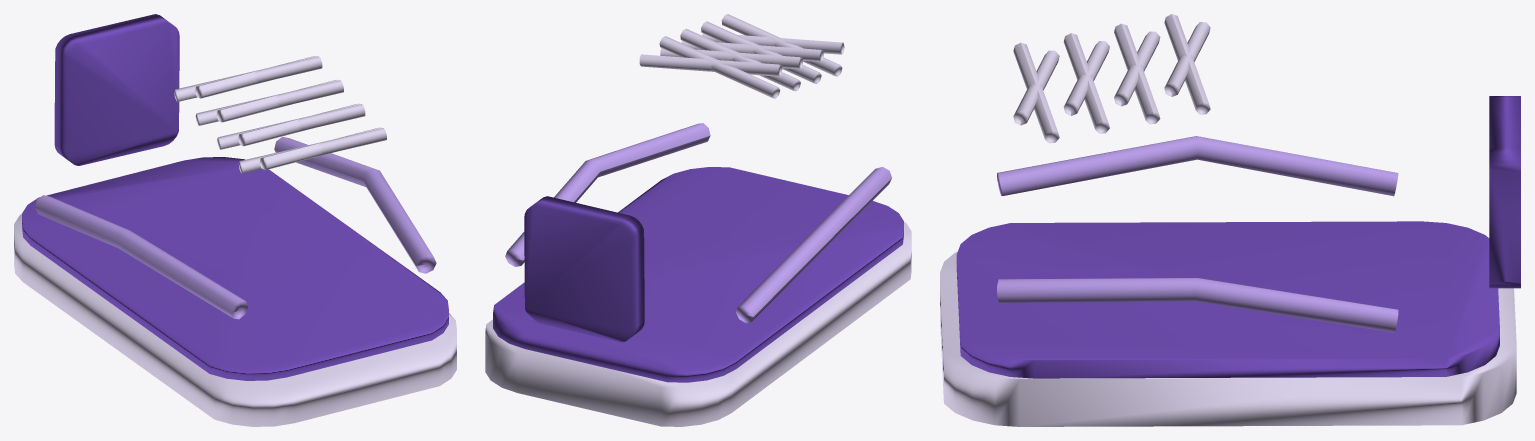
Rendered from echo_right_shoe_trim.glb.
3 renders of one model, left to right at view 1: azimuth 30°, elevation 25°; view 2: azimuth 150°, elevation 25°; view 3: azimuth 270°, elevation 25°, orthographic. The views are drawn at different scales.
Parts seen in each view (by area): view 1: echo_right_shoe_trim; view 2: echo_right_shoe_trim; view 3: echo_right_shoe_trim.
Boxes of the visible parts, <box> form: echo_right_shoe_trim: <box>14,14,456,426</box>; echo_right_shoe_trim: <box>485,14,911,426</box>; echo_right_shoe_trim: <box>940,14,1520,426</box>.
Bounding box in the file's own units: 0.172 × 0.1622 × 0.277.
